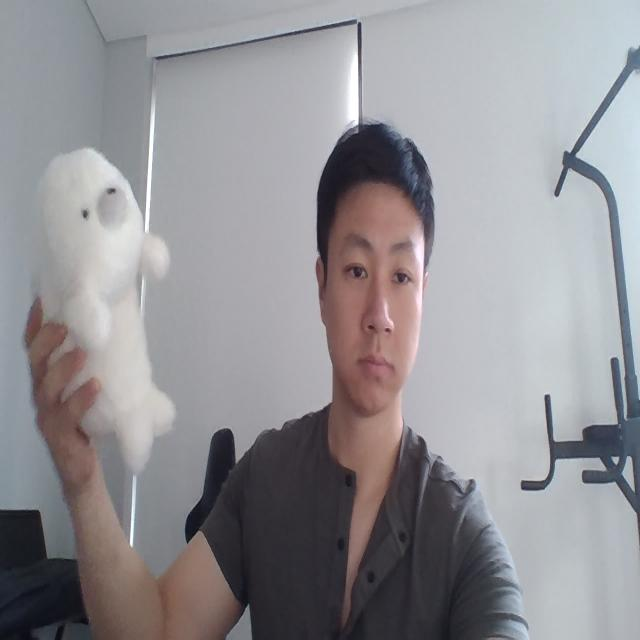seal_bb: (32, 146, 177, 477)
